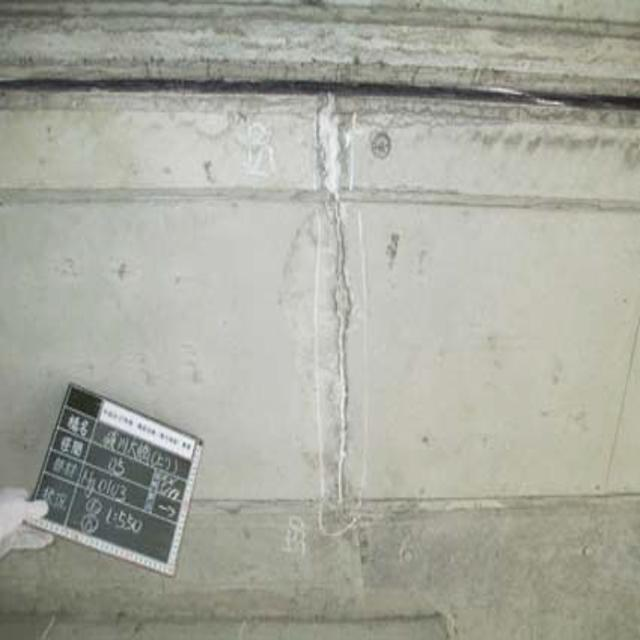freelime: (307, 93, 360, 283)
